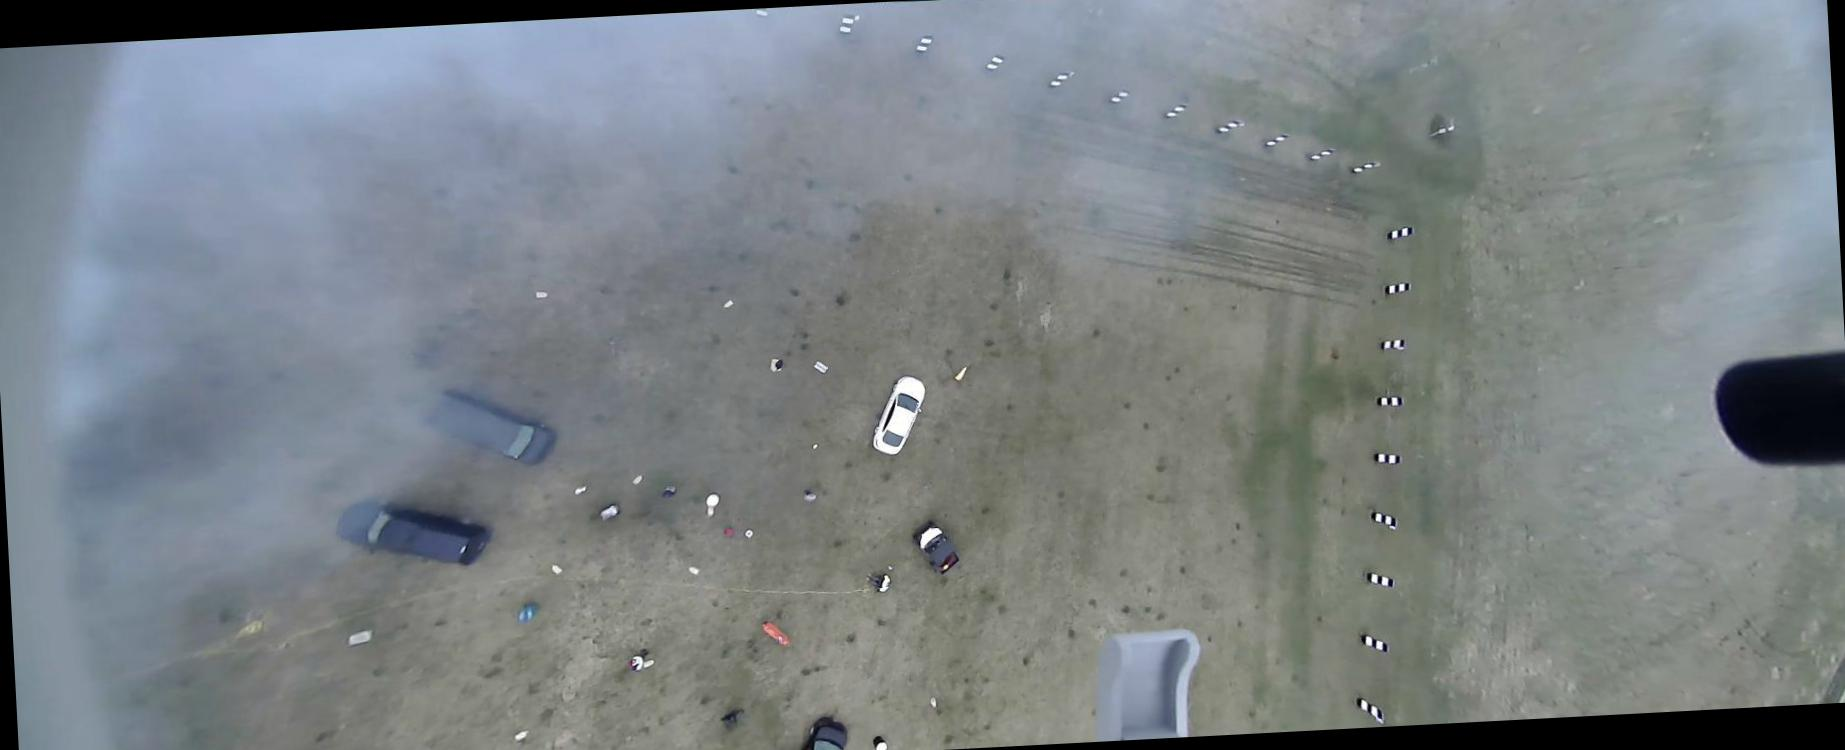vehicle: (333, 495, 493, 573), (417, 385, 554, 472), (868, 374, 928, 458), (911, 518, 959, 577), (794, 716, 850, 749)
